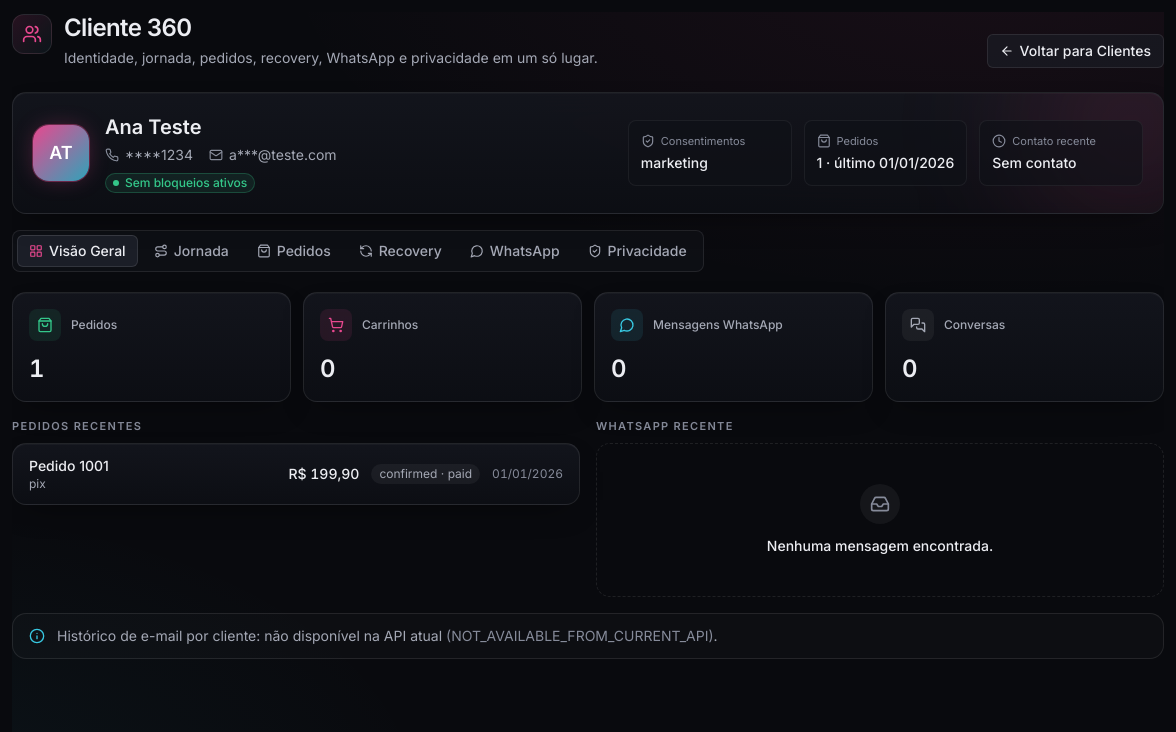
CustomerDetailPage › aba Consentimentos preserva a semantica de escopo e suppression, sem inferir nada
Expected: the heading "Ana Teste" is shown, [105,115,202,139]
Step 1. Click the tab "Privacidade" → (637, 251), box [576,235,699,267]
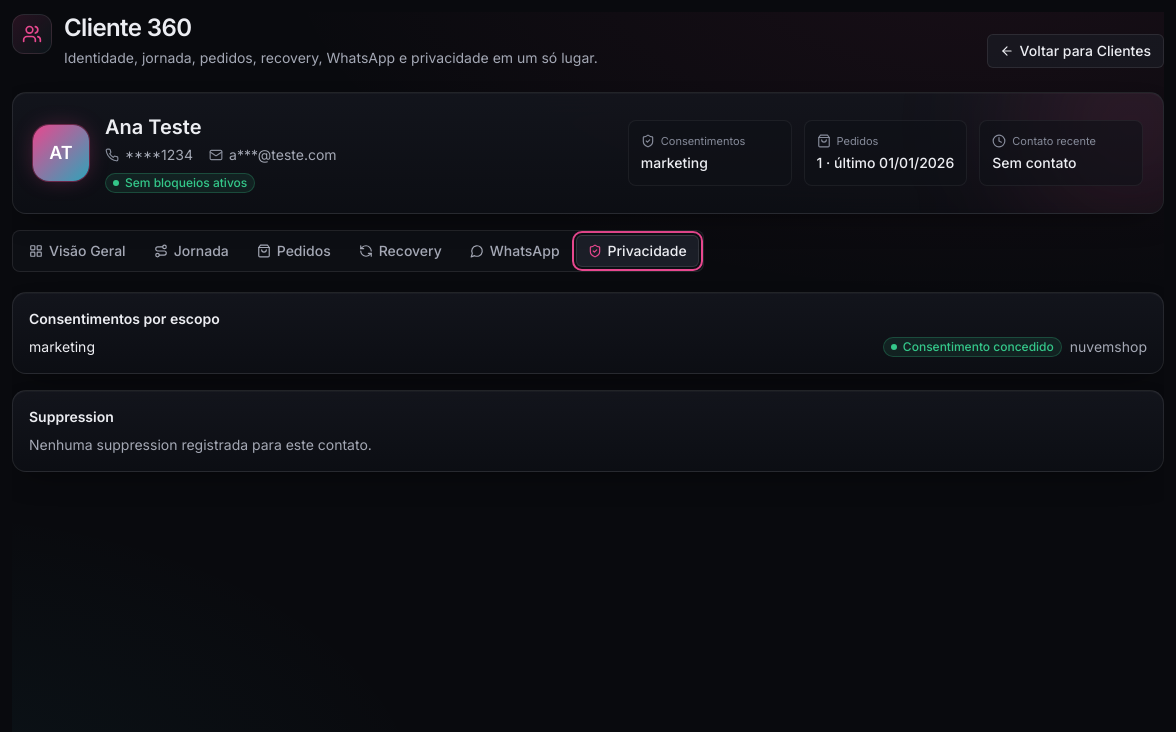
Result: the text "Nenhuma suppression registrada para este contato." is shown at [29,436,372,453]
